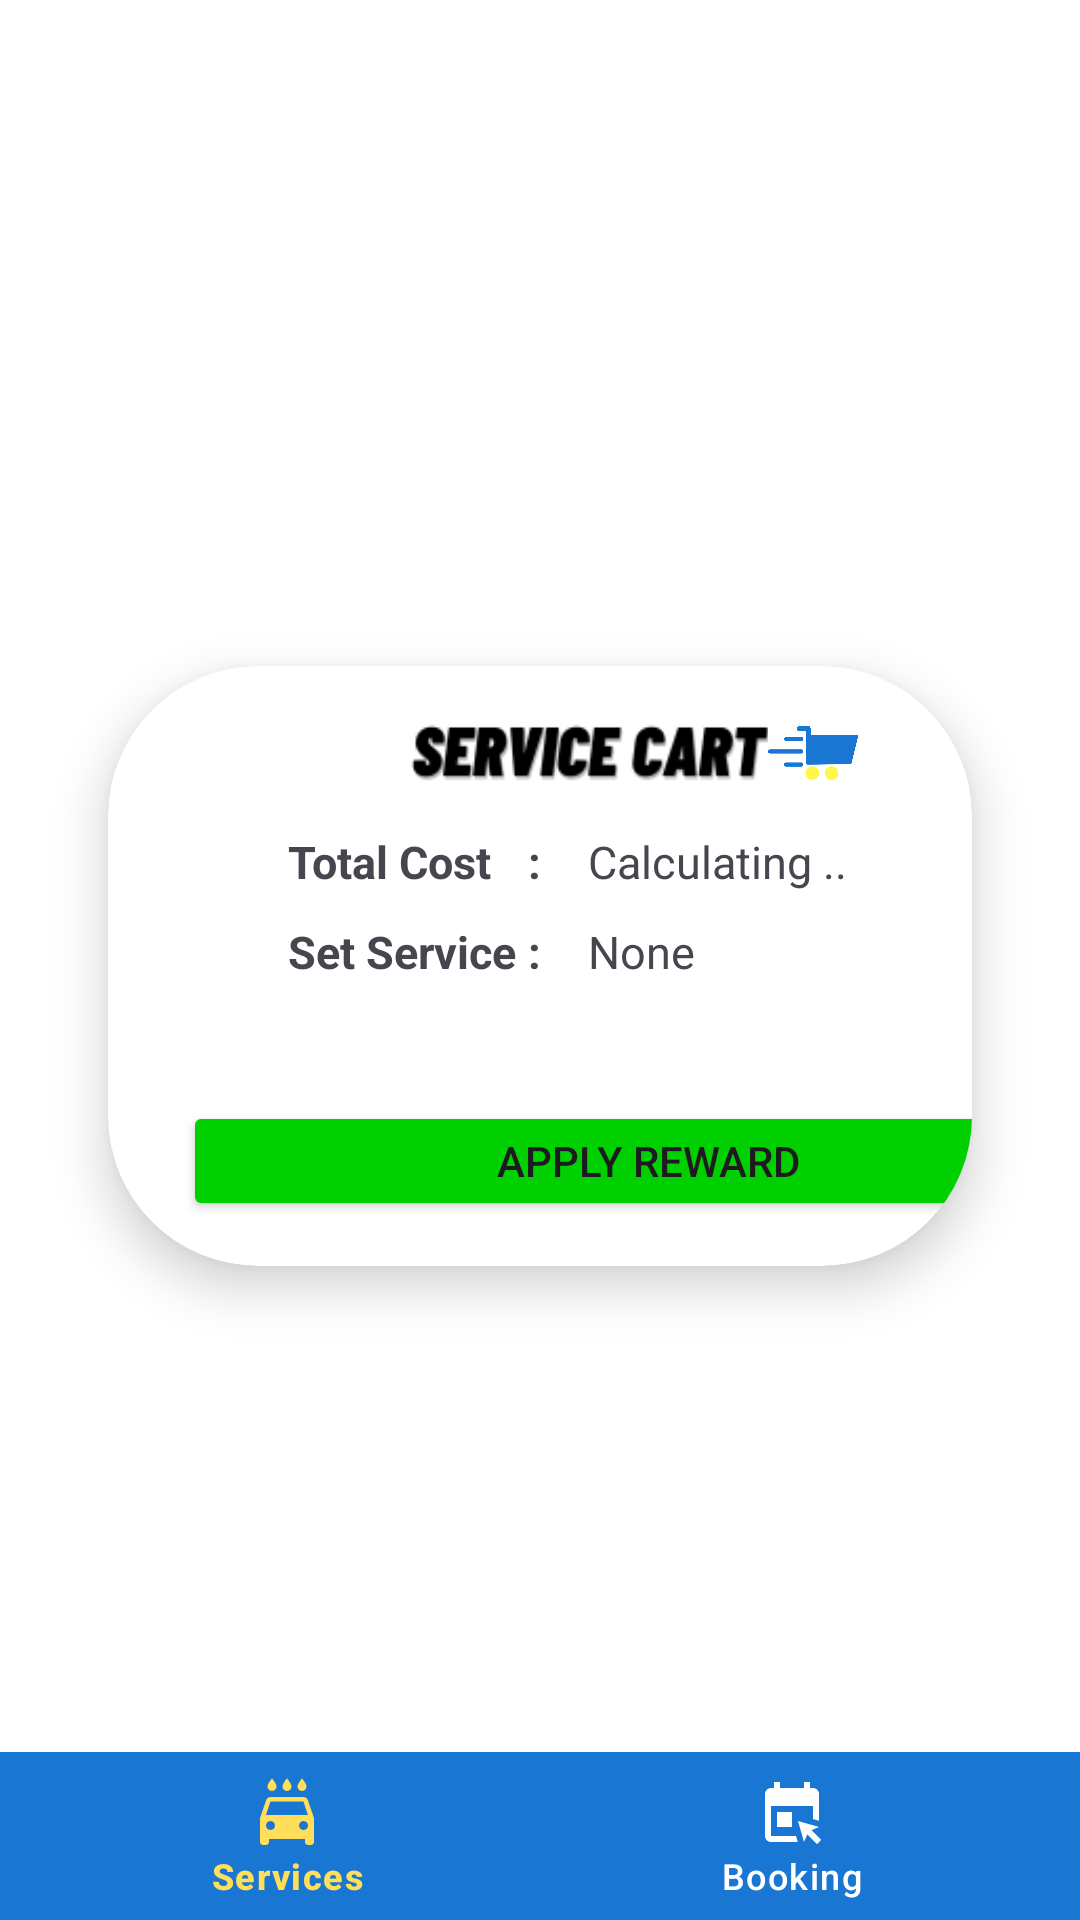

Named icons in this screenshot (1080 x 1920) and their bounding boxes, bbox=(x1, y1, x2, y2):
cart: bbox=(768, 726, 858, 780)
